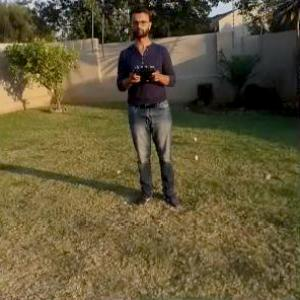follow: (116, 2, 186, 210)
